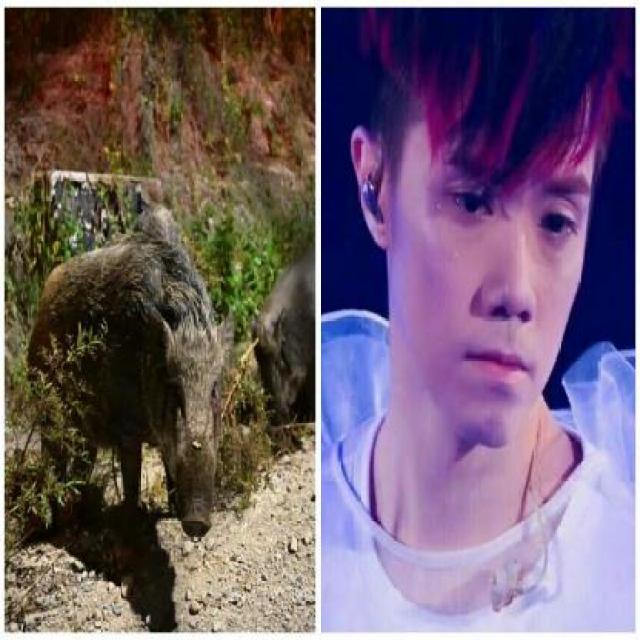wildboar: (22, 230, 240, 582), (241, 226, 317, 468), (121, 187, 204, 388)
